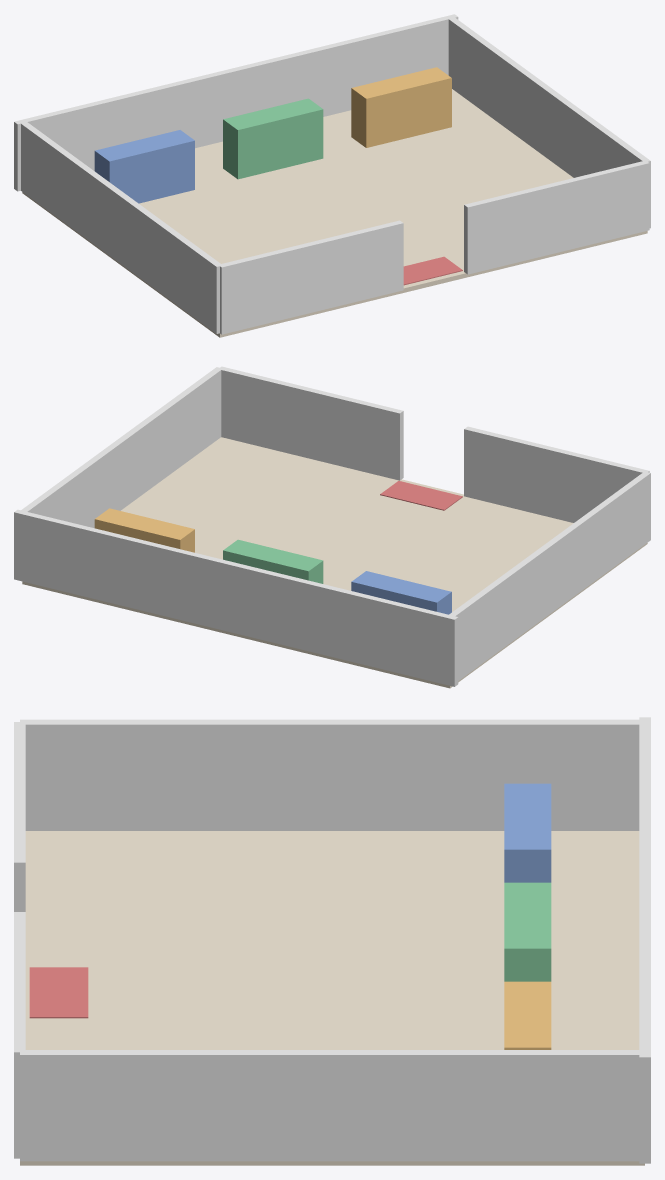
Rendered from library.glb.
3 views of the same model, one above another, from view 1: azimuth 30°, elevation 25°; view 2: azimuth 150°, elevation 25°; view 3: azimuth 270°, elevation 25° (orthographic). The views are drawn at different scales.
Parts seen in each view (by area): view 1: Floor, Wall_Back, Wall_Left, Wall_Front_Right, Wall_Front_Left, Wall_Right, Shelf_Science, Shelf_History, Shelf_Fiction, Entrance; view 2: Floor, Wall_Back, Wall_Left, Wall_Front_Right, Wall_Right, Wall_Front_Left, Shelf_Science, Shelf_Fiction, Shelf_History, Entrance; view 3: Floor, Wall_Right, Wall_Left, Wall_Back, Shelf_Fiction, Shelf_Science, Shelf_History, Entrance, Wall_Front_Right, Wall_Front_Left.
Boxes of the visible parts, x1,y1,x2,y2 form: Floor: (22, 89, 647, 337); Wall_Back: (14, 14, 458, 191); Wall_Left: (19, 120, 220, 333); Wall_Front_Right: (464, 161, 649, 274); Wall_Front_Left: (218, 220, 403, 334); Wall_Right: (448, 17, 650, 228); Shelf_Science: (223, 98, 323, 179); Shelf_History: (351, 67, 451, 147); Shelf_Fiction: (94, 130, 194, 203); Entrance: (403, 256, 462, 285); Floor: (22, 437, 647, 688); Wall_Back: (14, 509, 458, 686); Wall_Left: (448, 472, 650, 680); Wall_Front_Right: (219, 366, 403, 480); Wall_Right: (19, 367, 222, 528); Wall_Front_Left: (464, 426, 649, 522); Shelf_Science: (223, 539, 323, 583); Shelf_Fiction: (351, 571, 451, 614); Shelf_History: (94, 508, 194, 552); Entrance: (380, 481, 462, 510); Floor: (20, 831, 644, 1165); Wall_Right: (20, 1050, 643, 1161); Wall_Left: (20, 719, 644, 830); Wall_Back: (639, 717, 650, 1163); Shelf_Fiction: (504, 783, 551, 882); Shelf_Science: (504, 882, 551, 981); Shelf_History: (504, 981, 551, 1049); Entrance: (29, 967, 88, 1018); Wall_Front_Right: (14, 912, 25, 1158); Wall_Front_Left: (14, 722, 25, 911).
Bounding box in the file's own units: 20.6 × 3.2 × 16.3.
